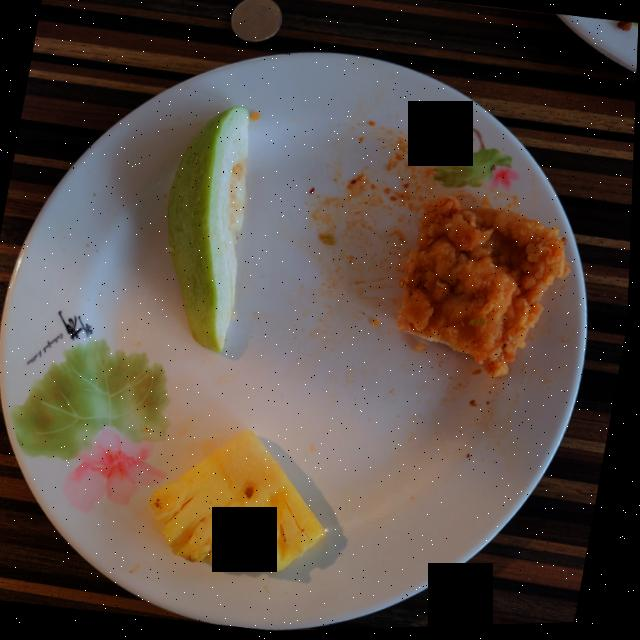coin: (231, 0, 283, 45)
fried chicken cutlet: (399, 199, 573, 380)
guava -sliced-: (169, 108, 251, 354)
pineapple: (153, 432, 329, 574)
